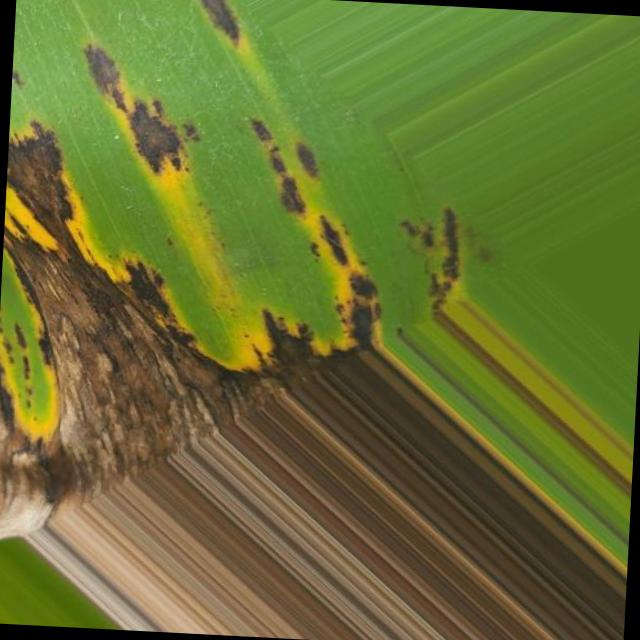Banana_Black_Sigatoka: (0, 49, 412, 525)
